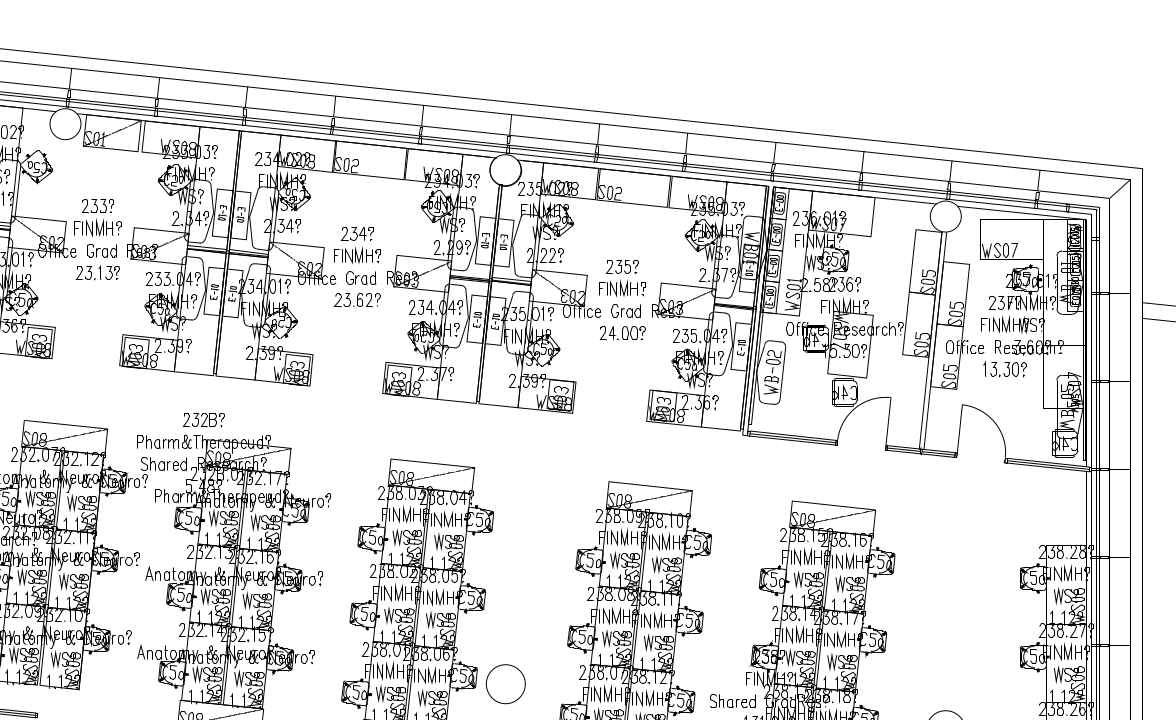door: (832, 390, 896, 451), (953, 401, 1017, 462)
